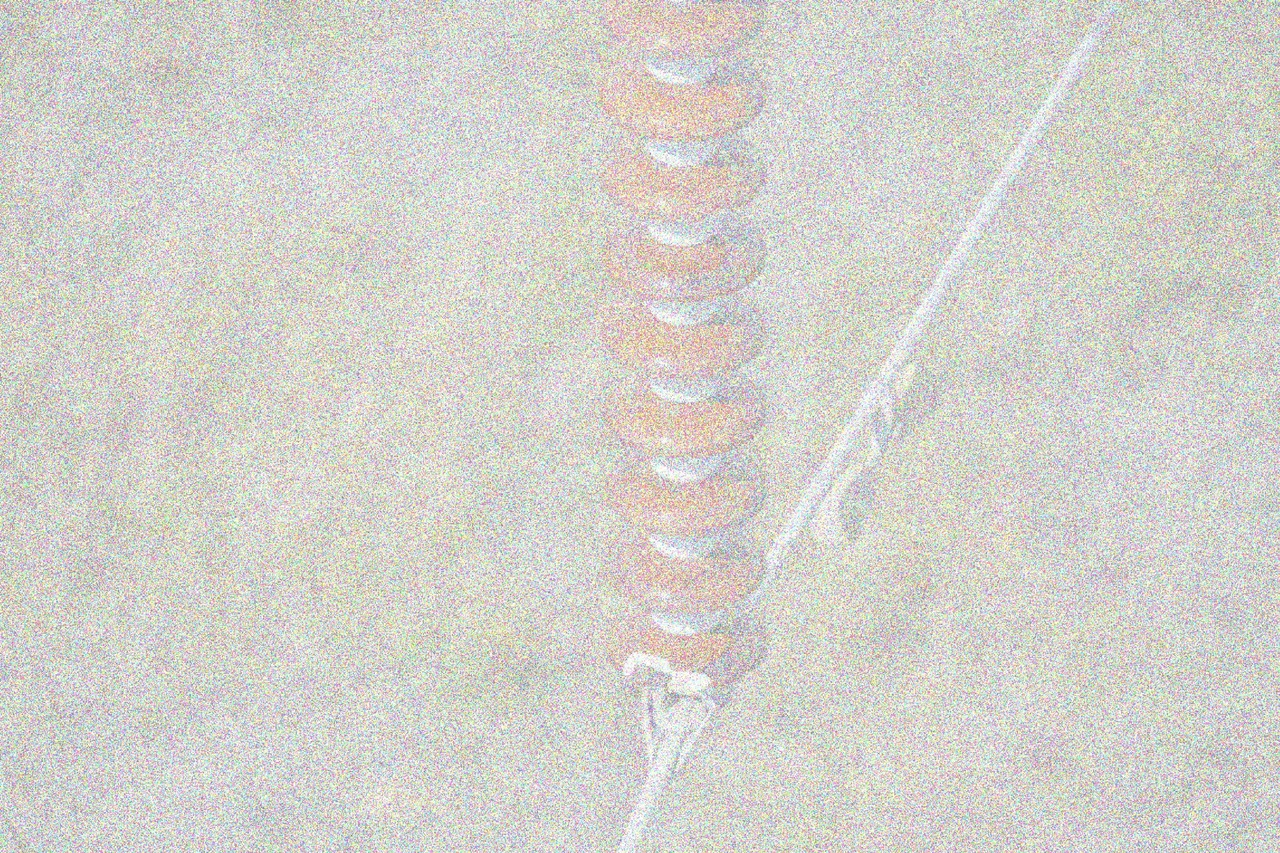Broken: (603, 602, 771, 692), (597, 140, 770, 227)
No issues: (600, 445, 772, 535), (598, 523, 770, 613), (597, 291, 769, 381), (596, 56, 770, 142), (600, 375, 773, 461), (595, 225, 767, 298), (595, 0, 772, 59)
String: (579, 0, 780, 715)
